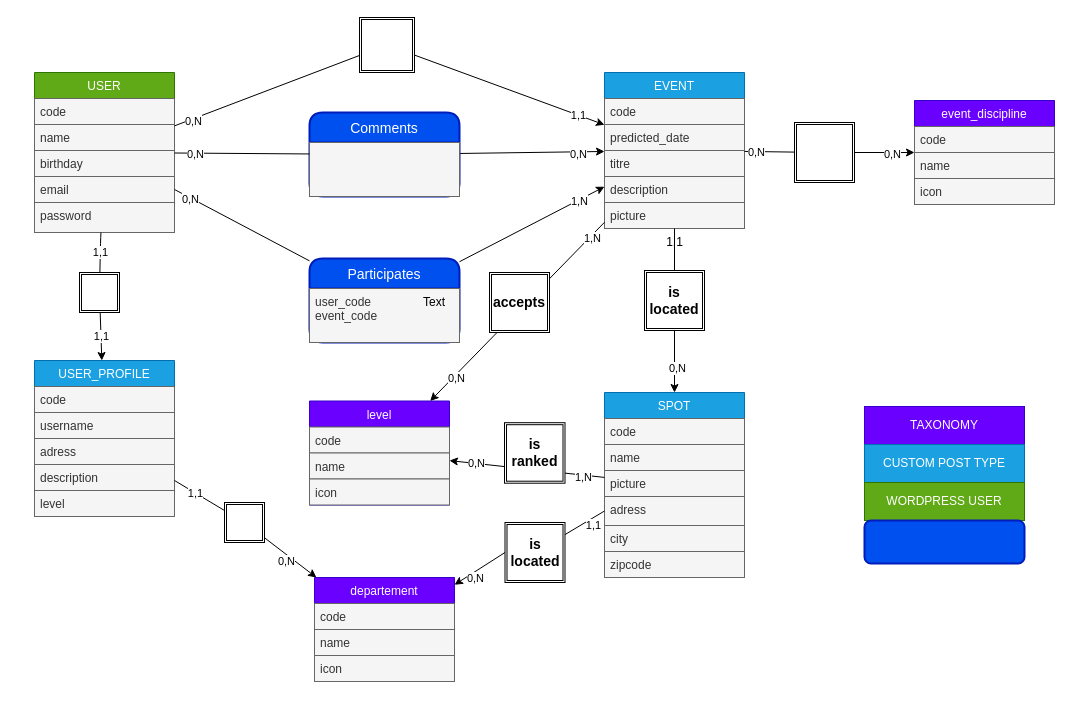
Some shapes in this 1072 by 702 pixel diagram are drawn without their labels. Each missing label, with the centre of its shape:
"creates" belongs at (x=386, y=44).
"CUSTOM TABLE" belongs at (x=944, y=541).
"features" belongs at (x=824, y=152).
"fills" belongs at (x=99, y=292).
"lives in" belongs at (x=244, y=522).
"user_code event_code comment" belongs at (x=384, y=169).
